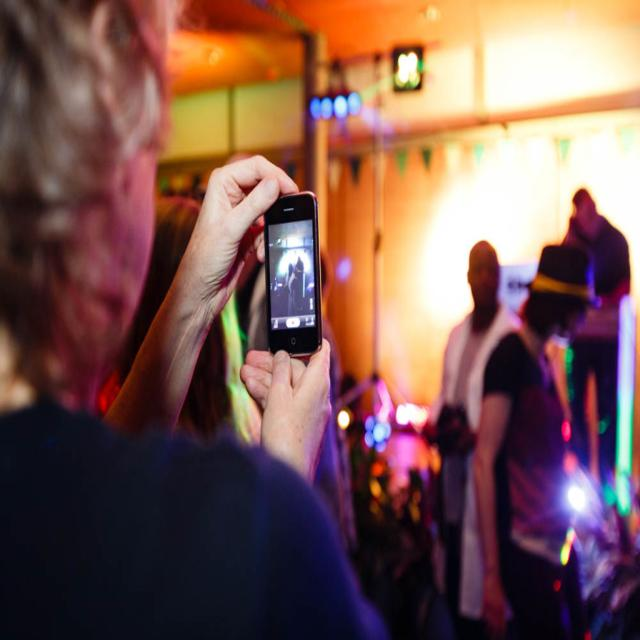Mobile phone: (262, 189, 324, 361)
